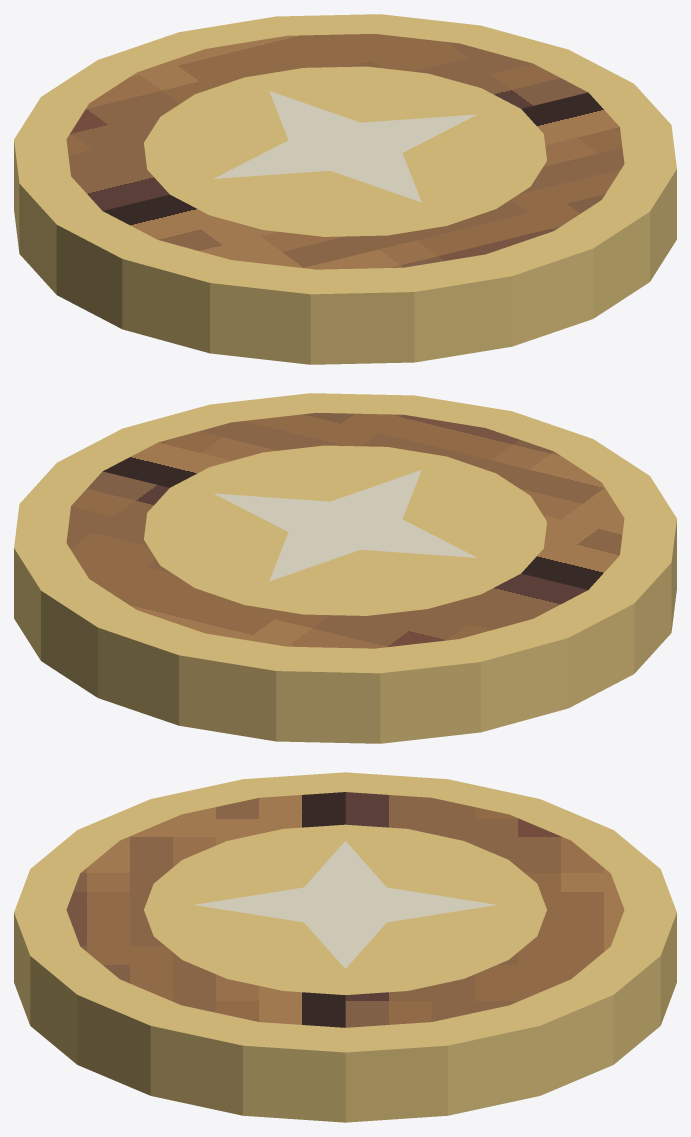
The model's file is moeda_chao.glb.
The picture shows the model from 3 angles, top to bottom: view 1: azimuth 30°, elevation 25°; view 2: azimuth 150°, elevation 25°; view 3: azimuth 270°, elevation 25°; orthographic projection.
Visible parts, largest first — view 1: bosque_moeda_chao; view 2: bosque_moeda_chao; view 3: bosque_moeda_chao.
Boxes of the visible parts, bbox=[...] form: bosque_moeda_chao: bbox=[14, 14, 676, 364]; bosque_moeda_chao: bbox=[14, 393, 676, 743]; bosque_moeda_chao: bbox=[14, 772, 676, 1122].
Bounding box in the file's own units: 0.24 × 0.031 × 0.24.
Materials: 3 (1 with a texture image).
